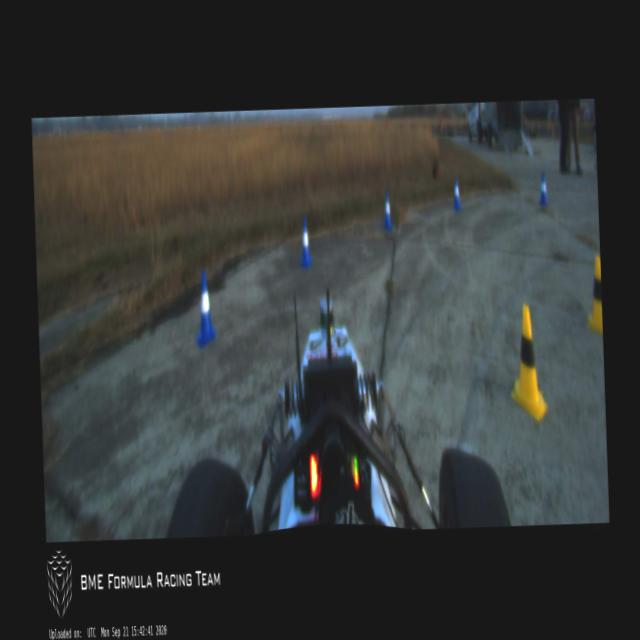blue_cone: (193, 271, 217, 346), (298, 219, 312, 267), (380, 190, 392, 232), (451, 176, 462, 212), (538, 172, 548, 206)
yellow_cone: (508, 303, 546, 422), (584, 257, 602, 336)
